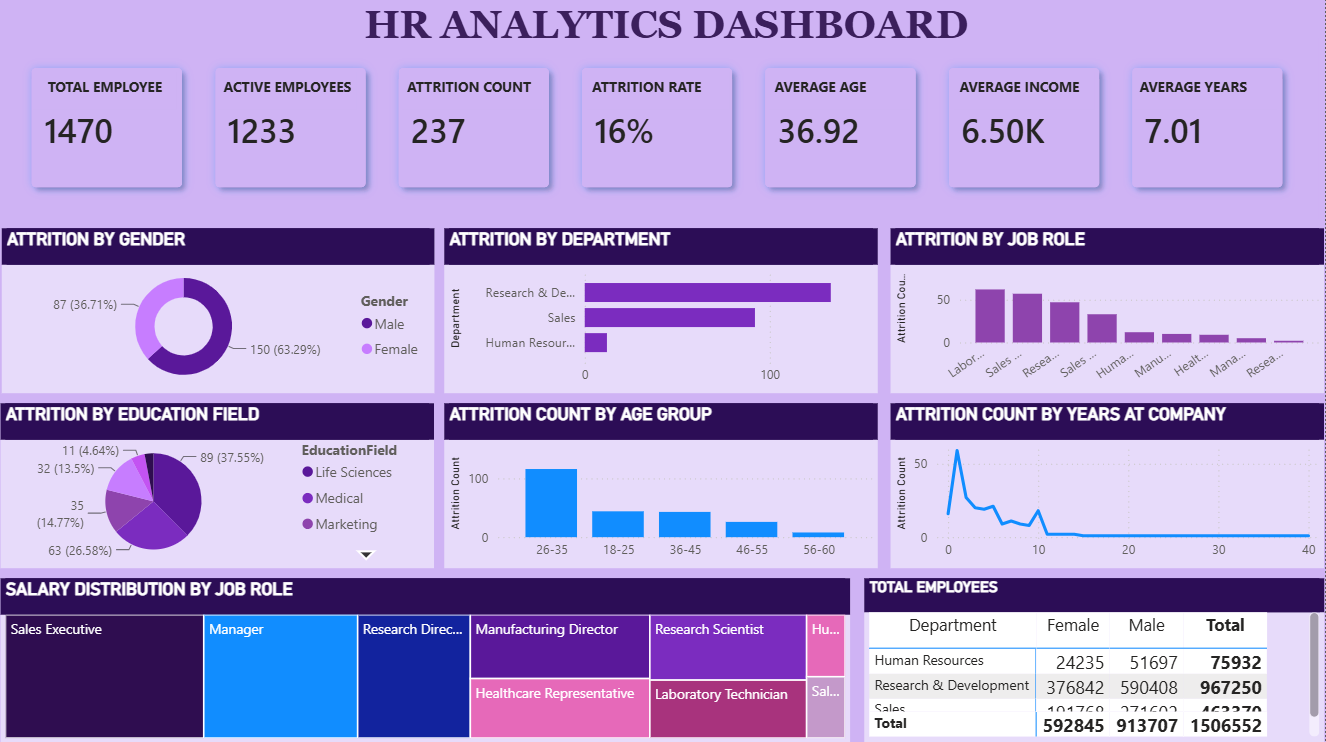

Layout of this report page (visuals, bound fields, positions):
{"tool":"powerbi","page":{"name":"Page 1","canvas":[1280,720],"ordinal":0},"visuals":[{"type":"textbox","box":[9.7,0,1270.4,54.3],"z":0},{"type":"cardVisual","fields":{"Data":["WA_Fn-UseC_-HR-Employee-Attrition.total employee","WA_Fn-UseC_-HR-Employee-Attrition.active employeees","WA_Fn-UseC_-HR-Employee-Attrition.Attrition Count","WA_Fn-UseC_-HR-Employee-Attrition.Attrition Rate","WA_Fn-UseC_-HR-Employee-Attrition.Average Age","WA_Fn-UseC_-HR-Employee-Attrition.Average Monthly Income","WA_Fn-UseC_-HR-Employee-Attrition.Average Years at Company"]},"box":[3.6,39.8,1270.4,173.7],"z":1000},{"type":"donutChart","title":"ATTRITION BY GENDER","fields":{"Category":["WA_Fn-UseC_-HR-Employee-Attrition.Gender"],"Y":["WA_Fn-UseC_-HR-Employee-Attrition.Attrition Count"]},"box":[3.6,223.2,417.4,159.3],"z":2000},{"type":"barChart","title":"ATTRITION BY DEPARTMENT","fields":{"Category":["WA_Fn-UseC_-HR-Employee-Attrition.Department"],"Y":["WA_Fn-UseC_-HR-Employee-Attrition.Attrition Count"]},"box":[430.7,223.2,418.6,159.3],"z":3000},{"type":"clusteredColumnChart","title":"ATTRITION BY JOB ROLE","fields":{"Category":["WA_Fn-UseC_-HR-Employee-Attrition.JobRole"],"Y":["WA_Fn-UseC_-HR-Employee-Attrition.Attrition Count"]},"box":[861.4,223.2,418.6,159.3],"z":4000},{"type":"pieChart","title":"ATTRITION BY EDUCATION FIELD","fields":{"Category":["WA_Fn-UseC_-HR-Employee-Attrition.EducationField"],"Y":["WA_Fn-UseC_-HR-Employee-Attrition.Attrition Count"]},"box":[2.4,392.1,418.6,159.3],"z":5000},{"type":"lineChart","title":"ATTRITION COUNT BY YEARS AT COMPANY","fields":{"Category":["WA_Fn-UseC_-HR-Employee-Attrition.YearsAtCompany"],"Y":["WA_Fn-UseC_-HR-Employee-Attrition.Attrition Count"]},"box":[861.4,392.1,418.6,159.3],"z":6000},{"type":"pivotTable","title":"TOTAL EMPLOYEES","fields":{"Rows":["WA_Fn-UseC_-HR-Employee-Attrition.Department"],"Columns":["WA_Fn-UseC_-HR-Employee-Attrition.Gender"],"Values":["Sum(WA_Fn-UseC_-HR-Employee-Attrition.EmployeeNumber)"]},"box":[836.1,561,444,158],"z":7000},{"type":"treemap","title":"SALARY DISTRIBUTION BY JOB ROLE","fields":{"Group":["WA_Fn-UseC_-HR-Employee-Attrition.JobRole"],"Values":["Sum(WA_Fn-UseC_-HR-Employee-Attrition.MonthlyIncome)"]},"box":[2.4,561,820.4,159.3],"z":8000},{"type":"columnChart","title":"ATTRITION COUNT BY AGE GROUP","fields":{"Category":["WA_Fn-UseC_-HR-Employee-Attrition.Age Group"],"Y":["WA_Fn-UseC_-HR-Employee-Attrition.Attrition Count"]},"box":[430.7,392.1,418.6,159.3],"z":8001},{"type":"textbox","box":[33.8,72.4,138.7,36.2],"z":8004},{"type":"textbox","box":[212.3,72.4,133.9,36.2],"z":8005},{"type":"textbox","box":[389.7,72.4,136.3,36.2],"z":8006},{"type":"textbox","box":[568.2,72.4,137.5,36.2],"z":8007},{"type":"textbox","box":[744.4,72.4,136.3,36.2],"z":8008},{"type":"textbox","box":[1096.7,72.4,137.5,36.2],"z":8009},{"type":"textbox","box":[922.9,72.4,135.1,36.2],"z":8010}]}

Visuals, with their boxes in screenshot pixels (x1, y1, x2, y2), scaled from the page's 1280x720 canvas onto the 1326x742 screenshot:
textbox: {"left": 10, "top": 0, "right": 1325, "bottom": 56}
cardVisual - WA_Fn-UseC_-HR-Employee-Attrition.total employee x WA_Fn-UseC_-HR-Employee-Attrition.active employeees: {"left": 4, "top": 41, "right": 1320, "bottom": 220}
"ATTRITION BY GENDER" donutChart: {"left": 4, "top": 230, "right": 436, "bottom": 394}
"ATTRITION BY DEPARTMENT" barChart: {"left": 446, "top": 230, "right": 880, "bottom": 394}
"ATTRITION BY JOB ROLE" clusteredColumnChart: {"left": 892, "top": 230, "right": 1325, "bottom": 394}
"ATTRITION BY EDUCATION FIELD" pieChart: {"left": 2, "top": 404, "right": 436, "bottom": 568}
"ATTRITION COUNT BY YEARS AT COMPANY" lineChart: {"left": 892, "top": 404, "right": 1325, "bottom": 568}
"TOTAL EMPLOYEES" pivotTable: {"left": 866, "top": 578, "right": 1325, "bottom": 741}
"SALARY DISTRIBUTION BY JOB ROLE" treemap: {"left": 2, "top": 578, "right": 852, "bottom": 741}
"ATTRITION COUNT BY AGE GROUP" columnChart: {"left": 446, "top": 404, "right": 880, "bottom": 568}
textbox: {"left": 35, "top": 75, "right": 179, "bottom": 112}
textbox: {"left": 220, "top": 75, "right": 359, "bottom": 112}
textbox: {"left": 404, "top": 75, "right": 545, "bottom": 112}
textbox: {"left": 589, "top": 75, "right": 731, "bottom": 112}
textbox: {"left": 771, "top": 75, "right": 912, "bottom": 112}
textbox: {"left": 1136, "top": 75, "right": 1279, "bottom": 112}
textbox: {"left": 956, "top": 75, "right": 1096, "bottom": 112}
